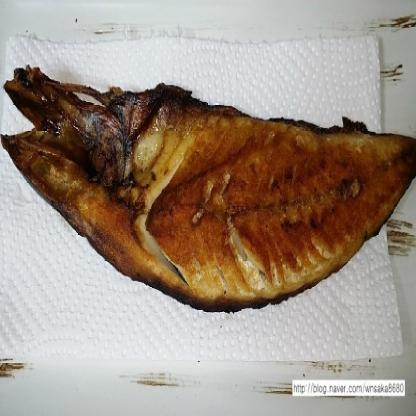Peixe: (1, 46, 411, 322)
